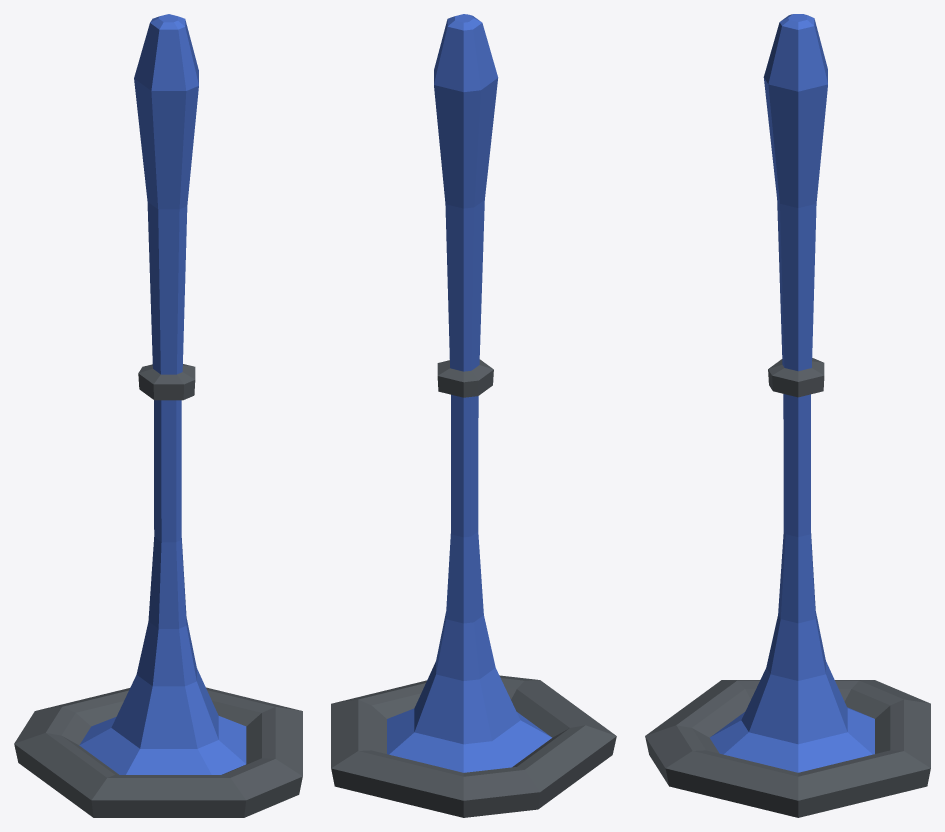
Rendered from Dropship_02_Antenna_Blue.fbx.
The picture shows the model from 3 angles, left to right: view 1: azimuth 30°, elevation 25°; view 2: azimuth 150°, elevation 25°; view 3: azimuth 270°, elevation 25°; orthographic projection.
Parts seen in each view (by area): view 1: Dropship_02_Antenna_Blue; view 2: Dropship_02_Antenna_Blue; view 3: Dropship_02_Antenna_Blue.
Part boxes in pixels (bbox=[...]): Dropship_02_Antenna_Blue: bbox=[14, 14, 302, 817]; Dropship_02_Antenna_Blue: bbox=[331, 14, 616, 817]; Dropship_02_Antenna_Blue: bbox=[645, 14, 930, 817].
Bounding box in the file's own units: 95.25 × 271 × 95.25.
Materials: 1 (1 with a texture image).
